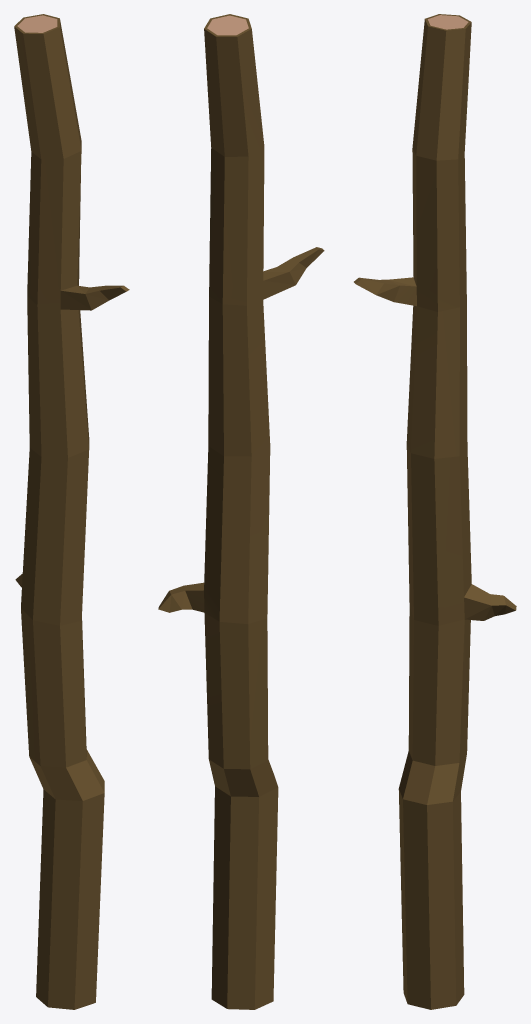
The model's file is stick1-thicc.fbx.
The picture shows the model from 3 angles, left to right: view 1: azimuth 90°, elevation 25°; view 2: azimuth 150°, elevation 25°; view 3: azimuth 330°, elevation 25°; orthographic projection.
Visible parts, largest first — view 1: Stick1-Thicc; view 2: Stick1-Thicc; view 3: Stick1-Thicc.
Part boxes in pixels (x1,y1,x2,y2): Stick1-Thicc: (14,14,129,1009); Stick1-Thicc: (158,14,324,1009); Stick1-Thicc: (354,14,516,1009).
Bounding box in the file's own units: 6.61 × 54.78 × 5.9.
